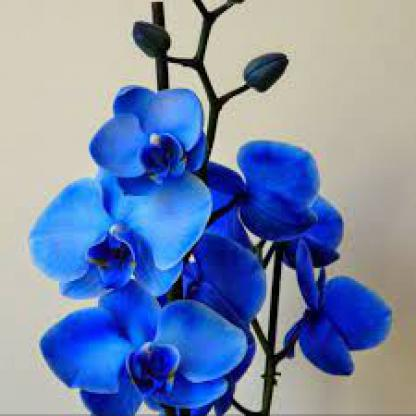ANGGREK: (18, 62, 376, 404)
